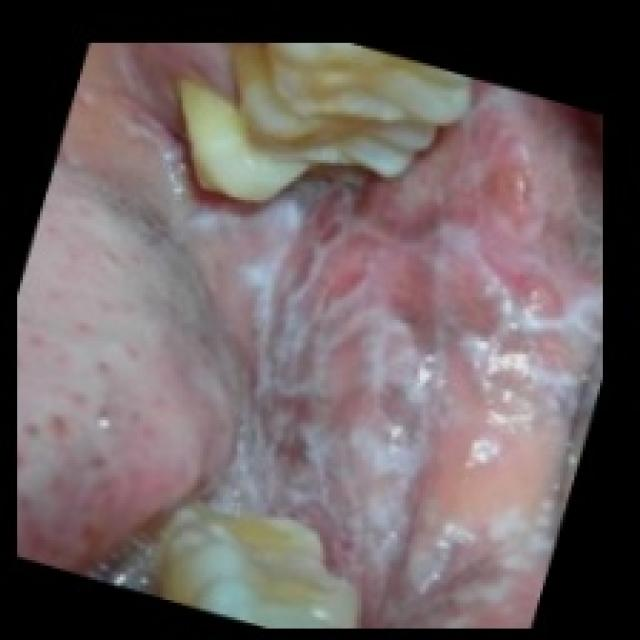leukoplakia-like-detection: (109, 83, 595, 624)
processing_area: (14, 43, 604, 633)
